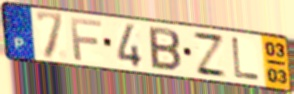4: (116, 22, 144, 70)
7: (34, 9, 66, 62)
B: (147, 25, 184, 74)
F: (68, 16, 104, 62)
L: (230, 36, 262, 83)
Z: (191, 30, 229, 80)
